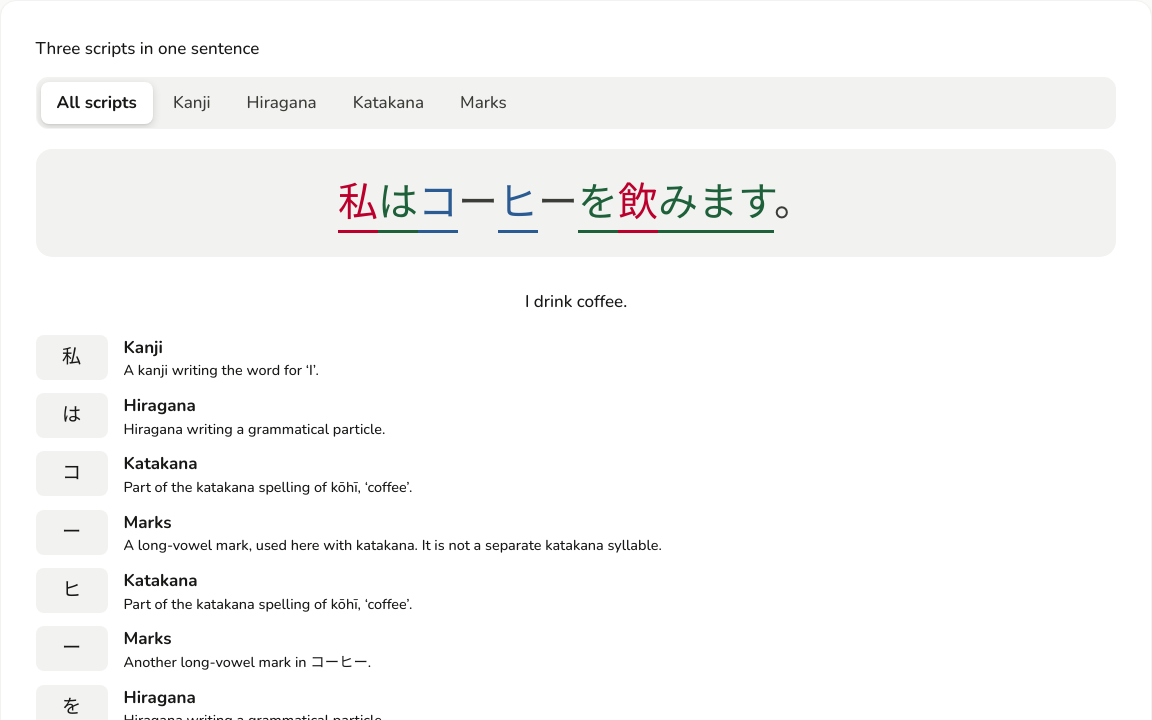
Test: history visual explanations › highlights script roles and explains long-vowel marks independently
Click the radio button labelled "Katakana" at (388, 103), box x1=337 y1=82 x2=440 y2=124
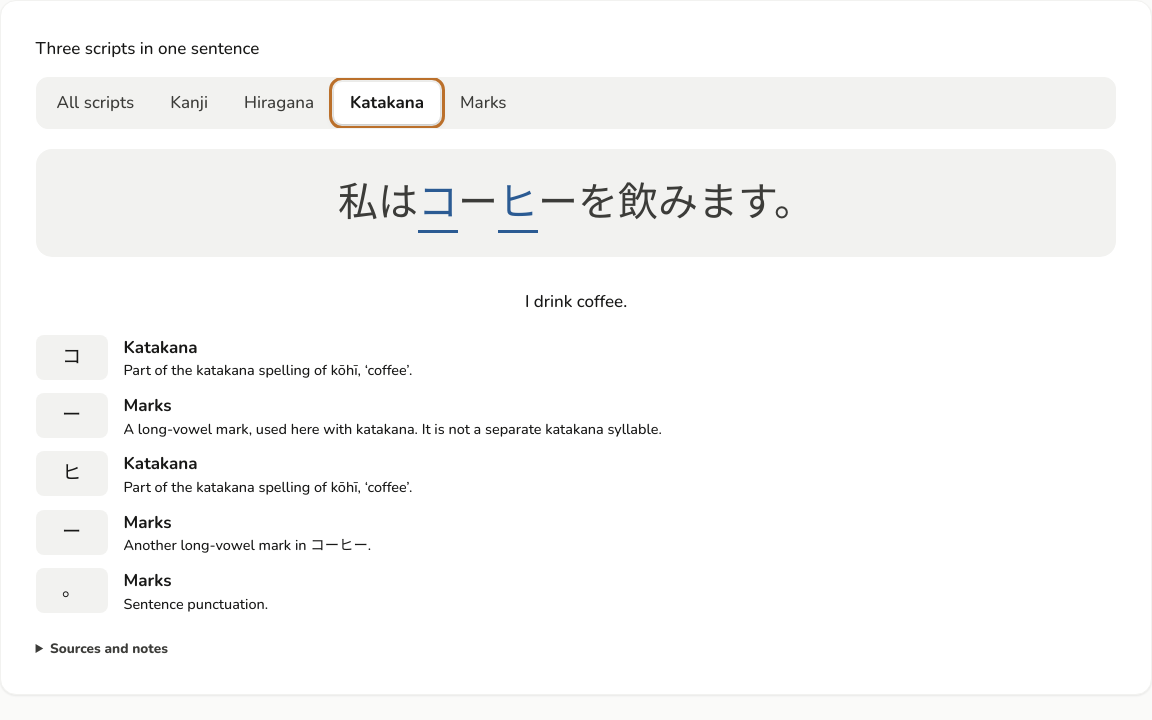
Expected: the element named "Japanese example" reads "私はコーヒーを飲みます。", x1=36 y1=148 x2=1116 y2=256
Expected: the text "not a separate katakana syllable" is shown, x1=124 y1=419 x2=662 y2=439
Expected: the 1st text "Part of the katakana spelling of kōhī, ‘coffee’." is shown, x1=124 y1=360 x2=412 y2=380
Click the radio button labelled "Hiragana" at (279, 103), box x1=228 y1=82 x2=330 y2=124
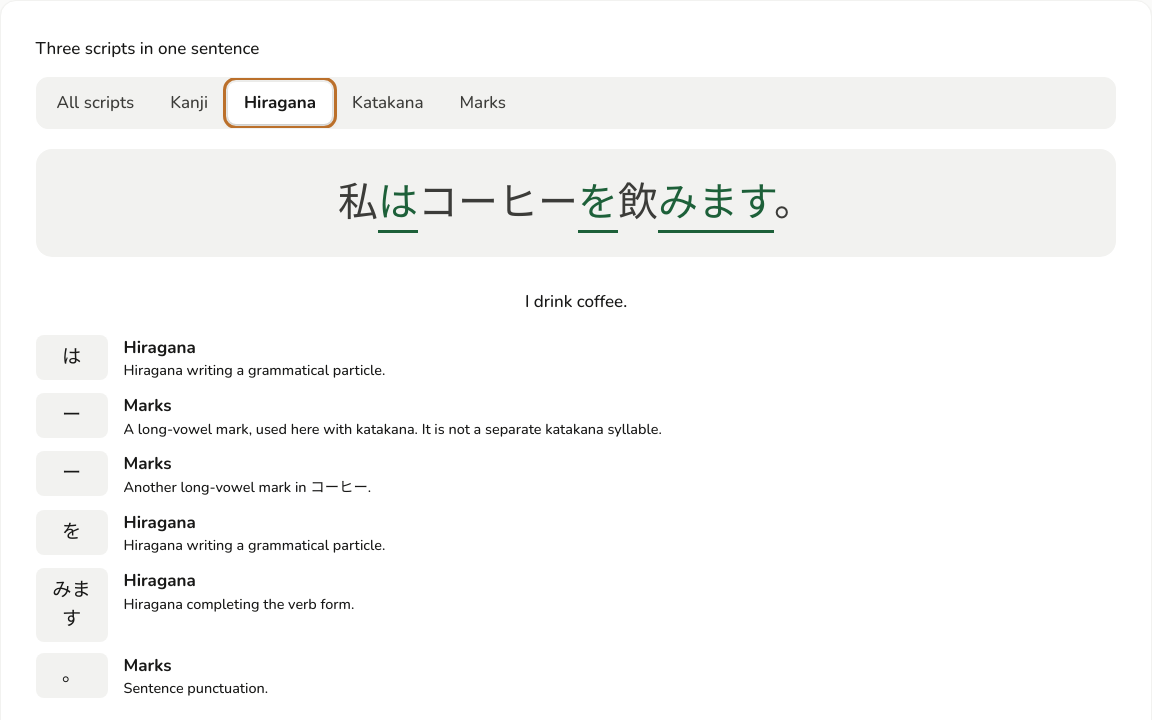
Expected: the text "Hiragana completing the verb form." is shown, x1=124 y1=594 x2=354 y2=614
